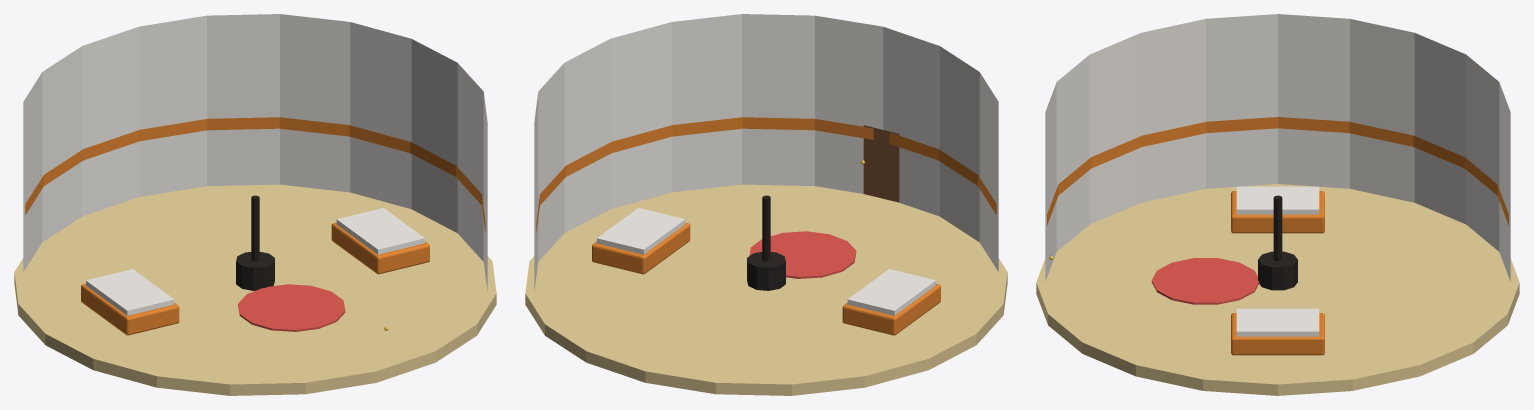
File: room_ger.glb
The picture shows the model from 3 angles, left to right: view 1: azimuth 30°, elevation 25°; view 2: azimuth 150°, elevation 25°; view 3: azimuth 270°, elevation 25°; orthographic projection.
Parts seen in each view (by area): view 1: RoomG; view 2: RoomG; view 3: RoomG.
Boxes of the visible parts, x1,y1,x2,y2 form: RoomG: (14,14,496,395); RoomG: (525,14,1007,395); RoomG: (1036,14,1519,395).
Size of the model in its own units: 13.4 by 5.55 by 13.4.
